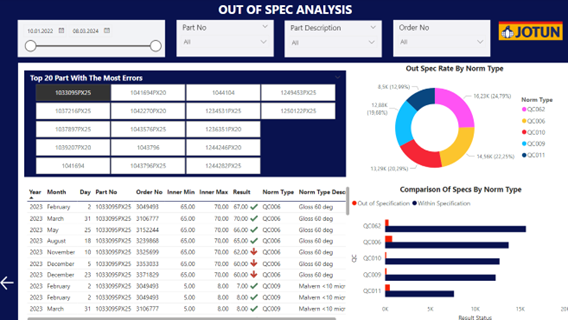

Layout of this report page (visuals, bound fields, positions):
{"tool":"powerbi","page":{"name":"Out of Spec ","canvas":[1280,720],"ordinal":1},"visuals":[{"type":"shape","box":[0,0,1279.6,142.3],"z":0,"group":"g3"},{"type":"group","id":"g1","title":"Page Design","box":[0,0,1280.3,719.7],"z":0},{"type":"shape","box":[0,0,1279.6,142.3],"z":0,"group":"g1"},{"type":"shape","box":[0.4,0,1279.6,142.3],"z":0,"group":"g2"},{"type":"shape","box":[0,0,44.2,720],"z":1000,"group":"g3"},{"type":"shape","box":[0,0,44.2,720],"z":1000,"group":"g1"},{"type":"group","id":"g2","title":"Page Design","box":[0.4,0,1279.6,720],"z":1000},{"type":"shape","box":[0.4,0,44.2,720],"z":1000,"group":"g2"},{"type":"slicer","fields":{"Values":["AnalysisResultsVariables 240308.Part No"]},"box":[285.8,0,190.6,82],"z":2000},{"type":"image","box":[1097.5,0,182.1,142.3],"z":2000,"group":"g3"},{"type":"image","box":[1097.5,0,182.1,142.3],"z":2000,"group":"g1"},{"type":"image","box":[1097.9,0,182.1,142.3],"z":2000,"group":"g2"},{"type":"group","id":"g3","title":"Page Design","box":[0,0,1279.6,720],"z":3000},{"type":"slicer","fields":{"Values":["AnalysisResultsVariables 240308.Time  Created"]},"box":[43.8,47.5,328.8,82.5],"z":4000},{"type":"textbox","box":[386.7,0,506.5,47],"z":5000},{"type":"slicer","fields":{"Values":["AnalysisResultsVariables 240308.Part No"]},"box":[57.5,158.8,718.8,236.2],"z":6000},{"type":"donutChart","title":"Out Spec Rate By Norm Type","fields":{"Category":["AnalysisResultsVariables 240308.Norm Type"],"Y":["CountNonNull(AnalysisResultsVariables 240308.Result Status)"]},"box":[776.8,142.4,483.8,266.7],"z":7000},{"type":"clusteredBarChart","title":"Comparison Of Specs By Norm Type","fields":{"Category":["AnalysisResultsVariables 240308.Norm Type"],"Y":["CountNonNull(AnalysisResultsVariables 240308.Result Status)"],"Series":["AnalysisResultsVariables 240308.Result Status"]},"box":[783.8,411.2,496.2,308.8],"z":8000},{"type":"slicer","fields":{"Values":["AnalysisResultsVariables 240308.Part No"]},"box":[397.8,46.7,216.7,81.7],"z":9000},{"type":"slicer","fields":{"Values":["AnalysisResultsVariables 240308.Part Description"]},"box":[639.7,48.3,216.7,81.7],"z":10000},{"type":"slicer","fields":{"Values":["AnalysisResultsVariables 240308.Order No"]},"box":[881.7,46.7,216.7,81.7],"z":11000},{"type":"actionButton","box":[0,610,45,40],"z":12000},{"type":"tableEx","title":"Comparison Of Specs By Norm Type","fields":{"Values":["AnalysisResultsVariables 240308.Time  Created.Variation.Date Hierarchy.Year","AnalysisResultsVariables 240308.Time  Created.Variation.Date Hierarchy.Month","AnalysisResultsVariables 240308.Time  Created.Variation.Date Hierarchy.Day","AnalysisResultsVariables 240308.Part No","AnalysisResultsVariables 240308.Order No","Avg(AnalysisResultsVariables 240308.Inner Min)","Avg(AnalysisResultsVariables 240308.Inner Max)","AnalysisResultsVariables 240308.Result","AnalysisResultsVariables 240308.Norm Type","AnalysisResultsVariables 240308.Norm Type Description"]},"box":[57.5,411.2,731.2,308.8],"z":13000}]}

Visuals, with their boxes in screenshot pixels (x1, y1, x2, y2), scaled from the page's 1280x720 canvas onto the 568x320 screenshot:
shape: [x1=0, y1=0, x2=567, y2=63]
"Page Design" group: [x1=0, y1=0, x2=567, y2=319]
shape: [x1=0, y1=0, x2=567, y2=63]
shape: [x1=0, y1=0, x2=567, y2=63]
shape: [x1=0, y1=0, x2=20, y2=319]
shape: [x1=0, y1=0, x2=20, y2=319]
"Page Design" group: [x1=0, y1=0, x2=567, y2=319]
shape: [x1=0, y1=0, x2=20, y2=319]
slicer - AnalysisResultsVariables 240308.Part No: [x1=127, y1=0, x2=211, y2=36]
image: [x1=487, y1=0, x2=567, y2=63]
image: [x1=487, y1=0, x2=567, y2=63]
image: [x1=487, y1=0, x2=567, y2=63]
"Page Design" group: [x1=0, y1=0, x2=567, y2=319]
slicer - AnalysisResultsVariables 240308.Time  Created: [x1=19, y1=21, x2=165, y2=58]
textbox: [x1=172, y1=0, x2=396, y2=21]
slicer - AnalysisResultsVariables 240308.Part No: [x1=26, y1=71, x2=344, y2=176]
"Out Spec Rate By Norm Type" donutChart: [x1=345, y1=63, x2=559, y2=182]
"Comparison Of Specs By Norm Type" clusteredBarChart: [x1=348, y1=183, x2=567, y2=319]
slicer - AnalysisResultsVariables 240308.Part No: [x1=177, y1=21, x2=273, y2=57]
slicer - AnalysisResultsVariables 240308.Part Description: [x1=284, y1=21, x2=380, y2=58]
slicer - AnalysisResultsVariables 240308.Order No: [x1=391, y1=21, x2=487, y2=57]
actionButton: [x1=0, y1=271, x2=20, y2=289]
"Comparison Of Specs By Norm Type" tableEx: [x1=26, y1=183, x2=350, y2=319]
